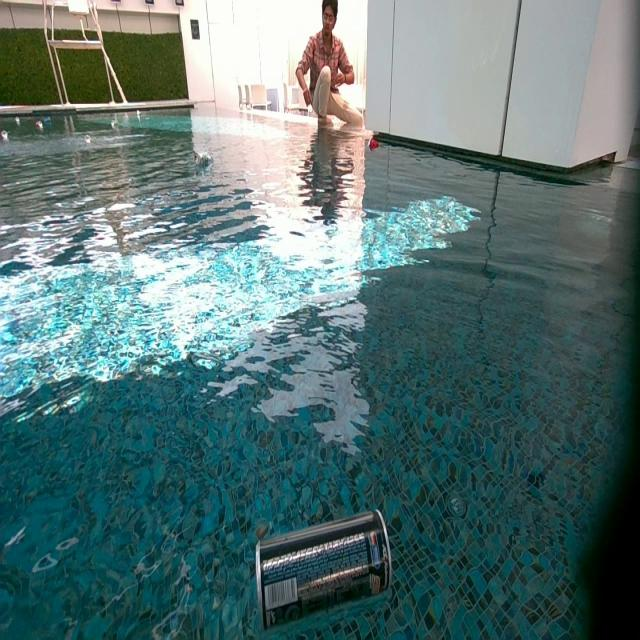Cans: (254, 508, 396, 632), (195, 152, 212, 169), (366, 136, 380, 150), (85, 133, 92, 146), (42, 116, 51, 125), (0, 130, 8, 140), (36, 121, 44, 130), (135, 109, 142, 119), (14, 116, 19, 125), (111, 121, 117, 127)
